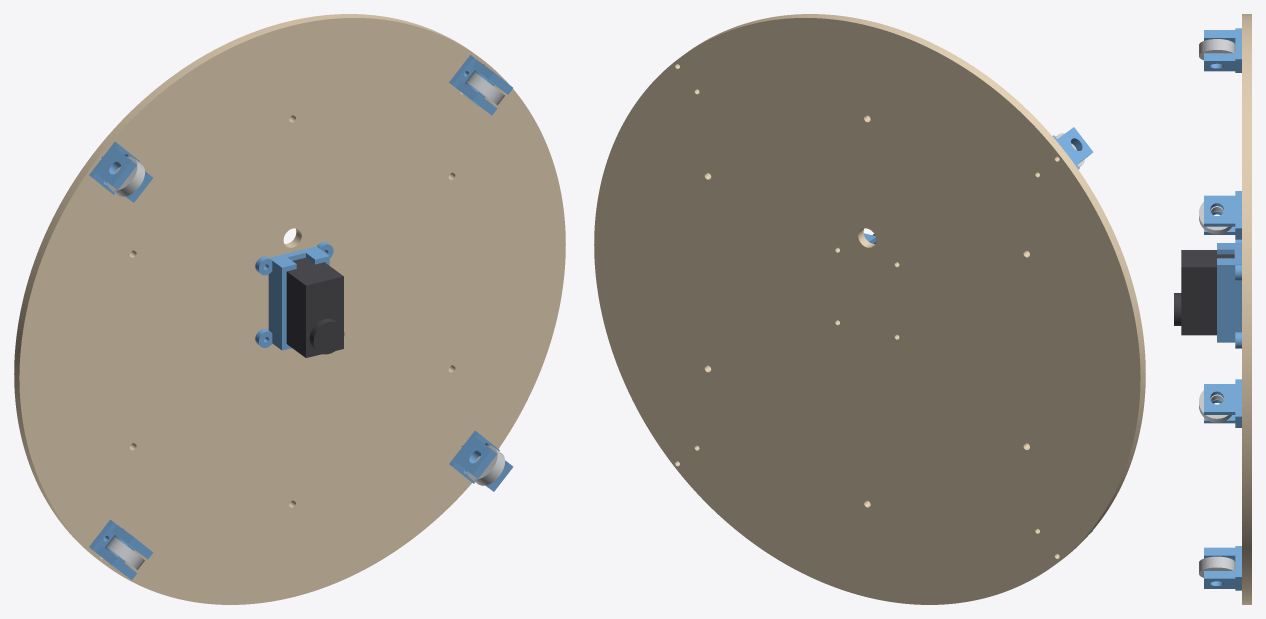
File: carousel_base.glb
The picture shows the model from 3 angles, left to right: view 1: azimuth 30°, elevation 25°; view 2: azimuth 150°, elevation 25°; view 3: azimuth 270°, elevation 25°; orthographic projection. The views are drawn at different scales.
Visible parts, largest first — view 1: sim_base_ply, sim_base_print, sim_base_servo, sim_base_steel; view 2: sim_base_ply, sim_base_print; view 3: sim_base_print, sim_base_ply, sim_base_servo, sim_base_steel.
Boxes of the visible parts, x1,y1,x2,y2 form: sim_base_ply: (14,14,565,604); sim_base_print: (89,55,513,579); sim_base_servo: (286,257,344,357); sim_base_steel: (106,72,505,570); sim_base_ply: (594,14,1145,604); sim_base_print: (863,127,1093,532); sim_base_print: (1204,28,1241,590); sim_base_ply: (1242,14,1251,604); sim_base_servo: (1174,250,1234,335); sim_base_steel: (1199,39,1235,577).
Bounding box in the file's own units: 0.3562 × 0.3562 × 0.047.
